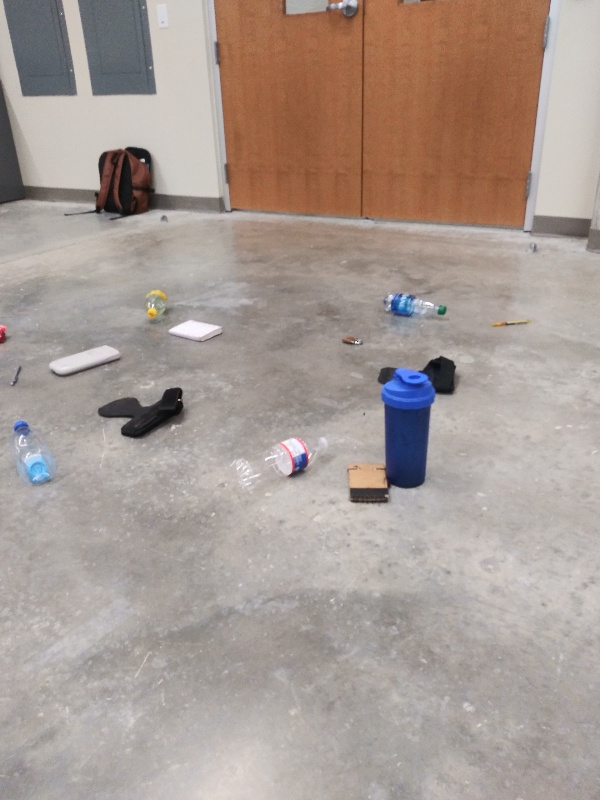bottle: (230, 430, 331, 500), (8, 416, 63, 484), (380, 291, 449, 325), (139, 283, 171, 321)
